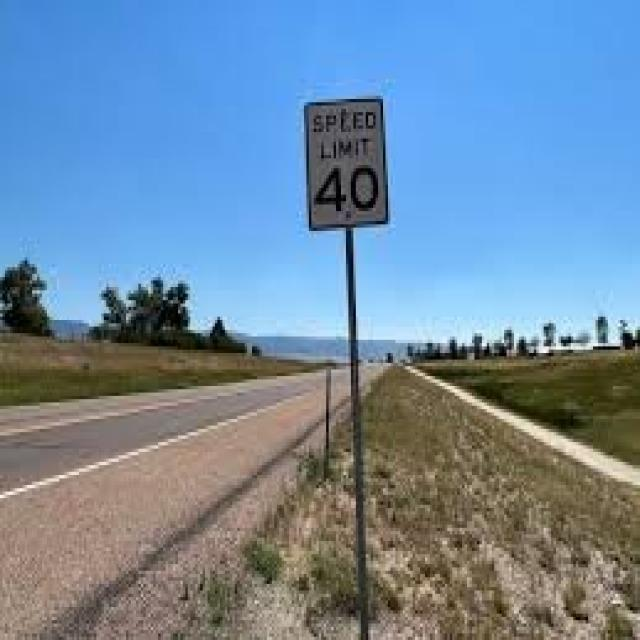speedLimit40: (299, 84, 393, 230)
